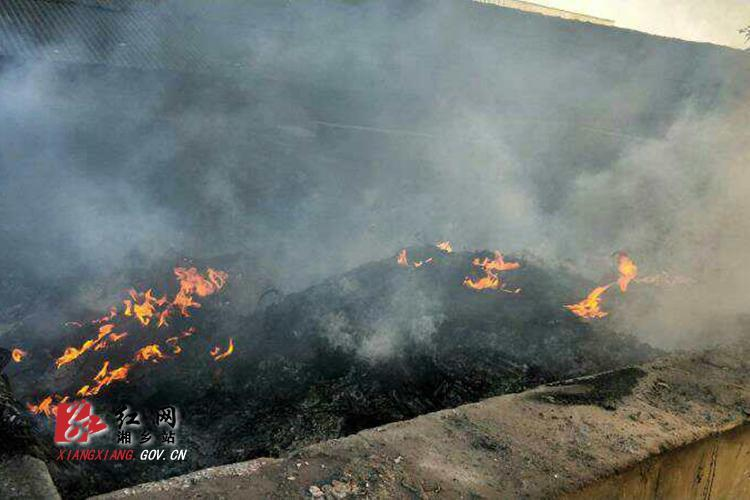fire: (3, 271, 234, 407), (573, 250, 636, 321), (388, 225, 456, 270), (462, 249, 516, 291)
